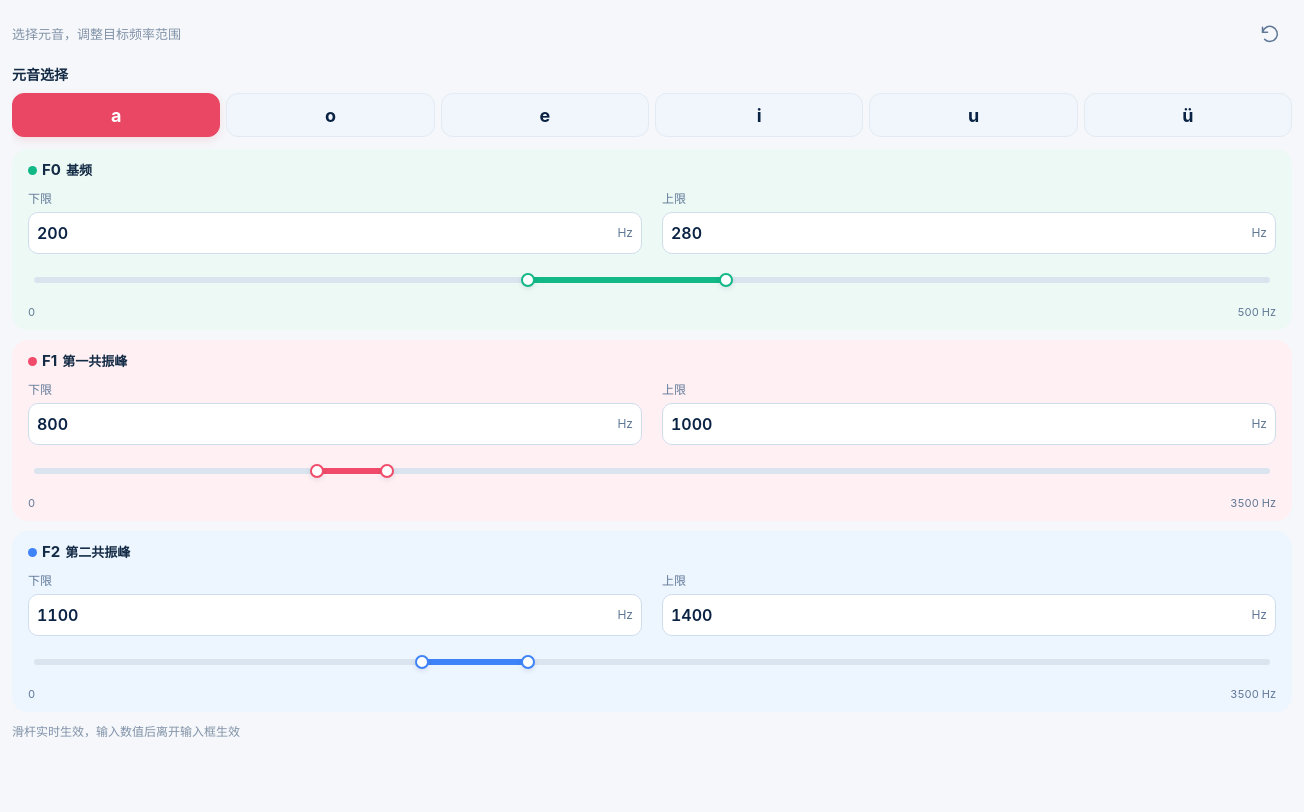
it: portrait target behavior › clears a validation message even when resetting already-default bands
Step 1. Replace the text in the number field named "F0下限" with "500" → (325, 232), box [37,212,614,252]
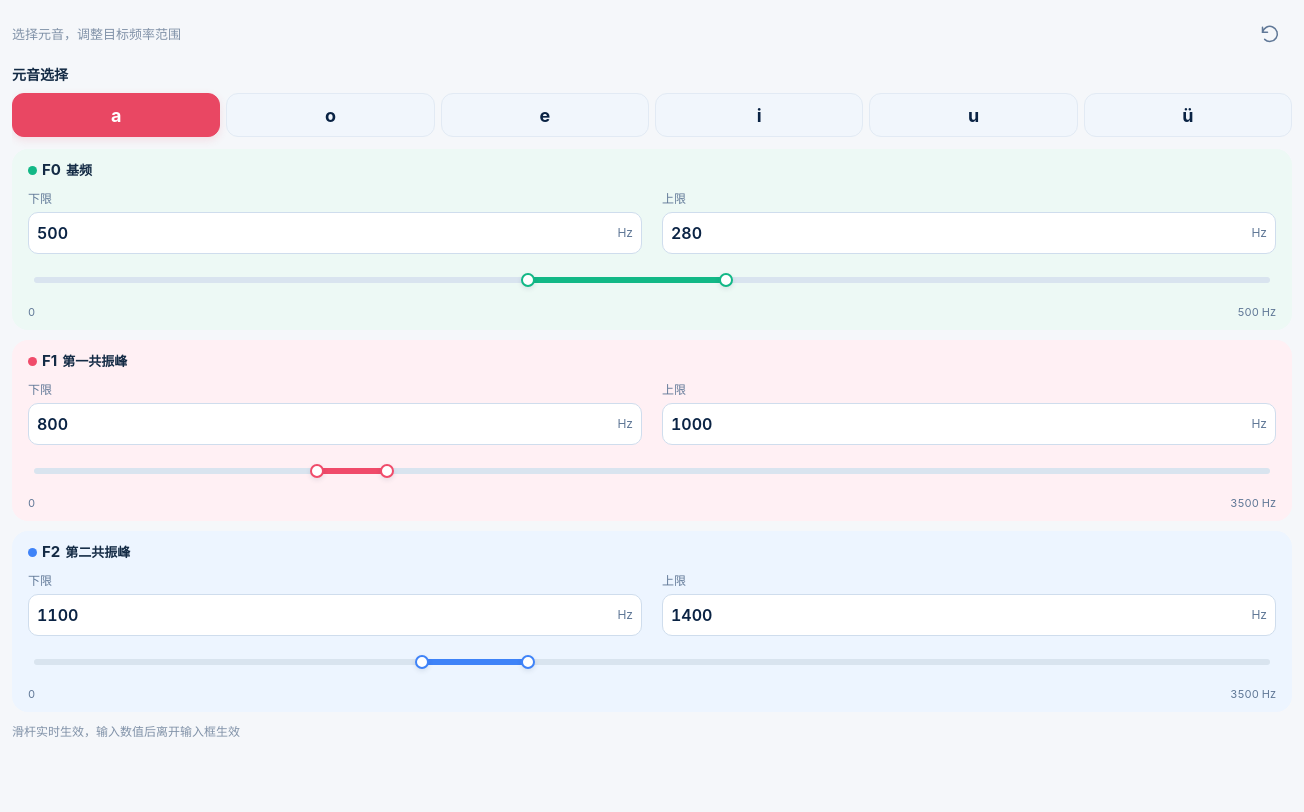
Step 2. Leave the number field named "F0下限", box [37,212,614,252]
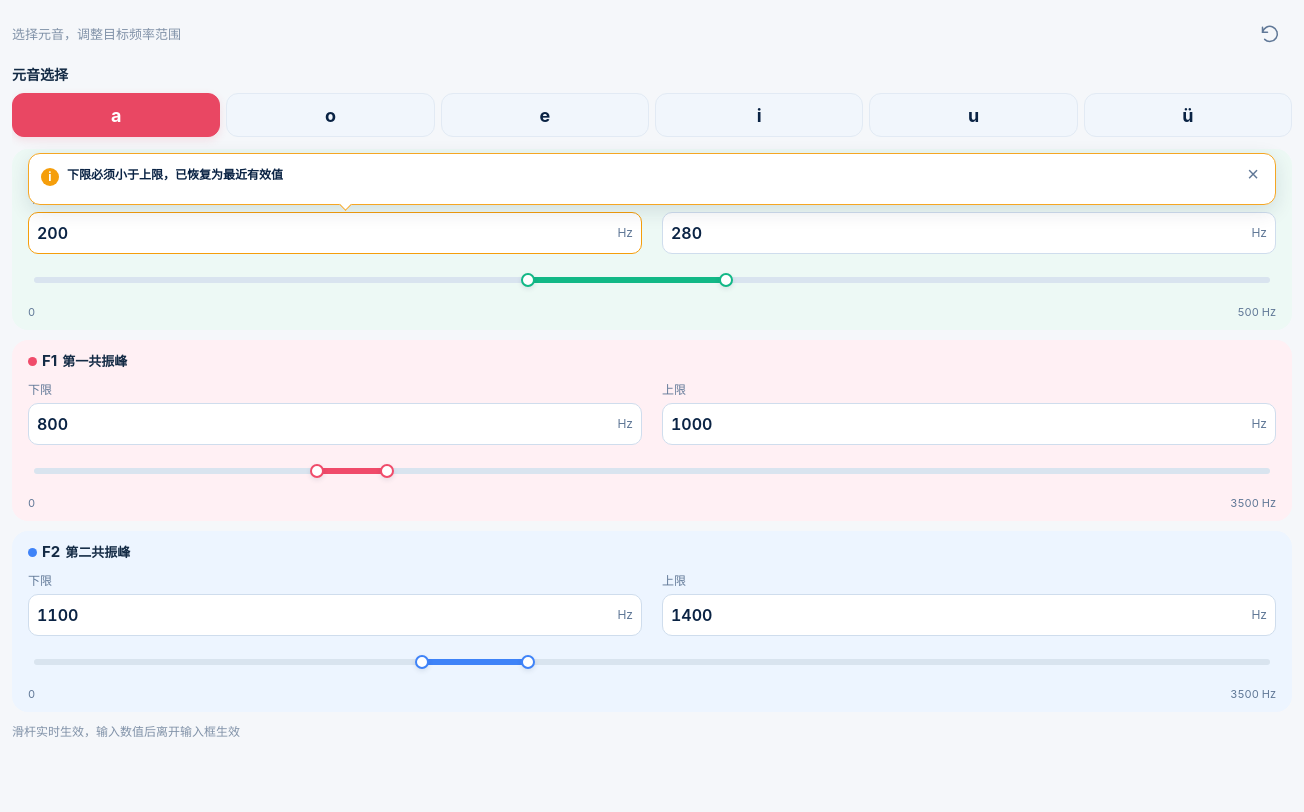
Result: the message "i 下限必须小于上限，已恢复为最近有效值 ×" is shown at [28,152,1276,204]
Step 3. Click the button named "重置所有预设" → (1270, 34), box [1248,12,1292,56]
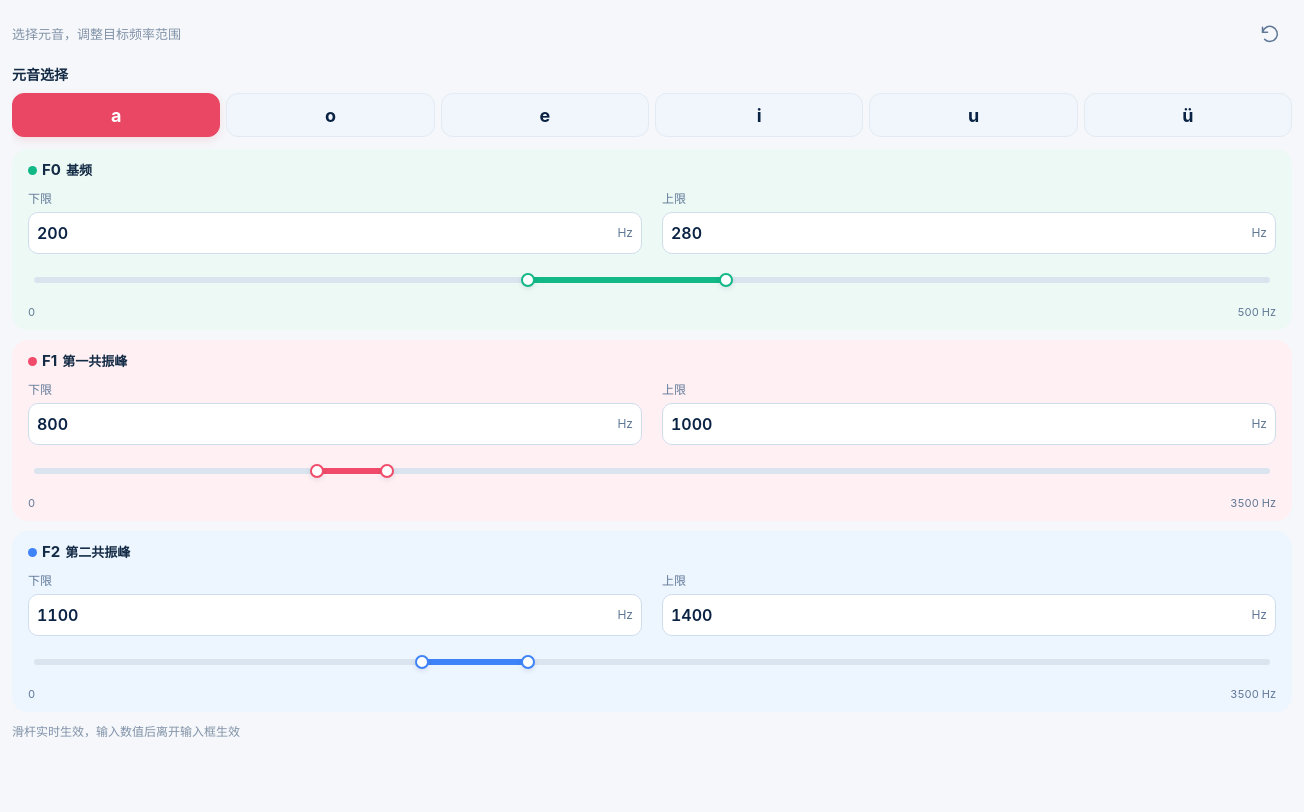
Result: the number field named "F0下限" holds "200" at [37,212,614,252]
Result: the message "i 下限必须小于上限，已恢复为最近有效值 ×" is gone
